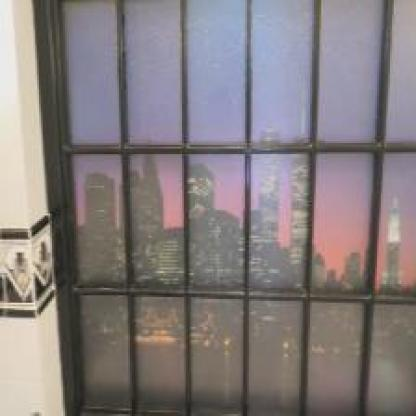other: (192, 170, 412, 296)
